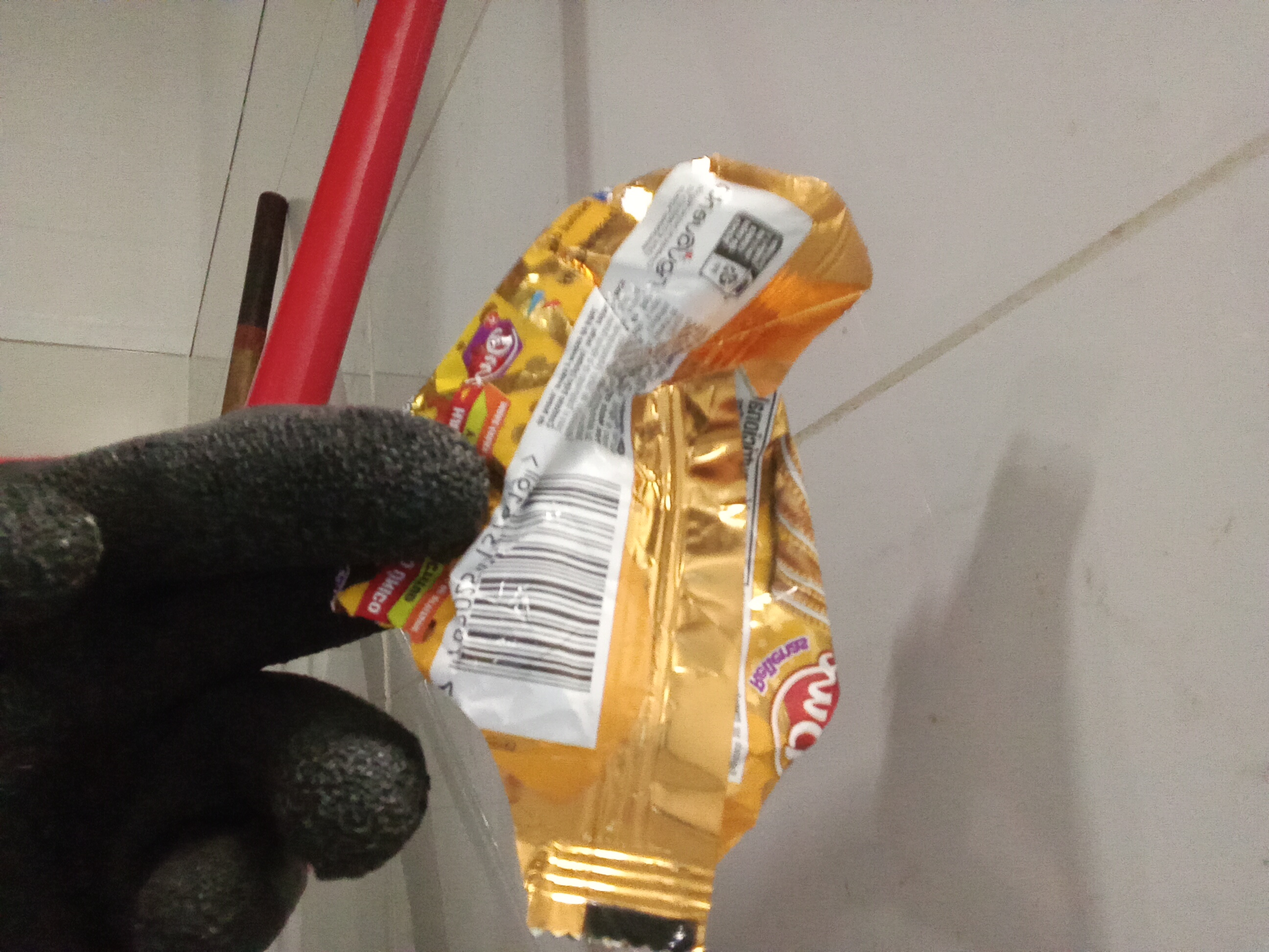Ordinario: (340, 157, 876, 952)
